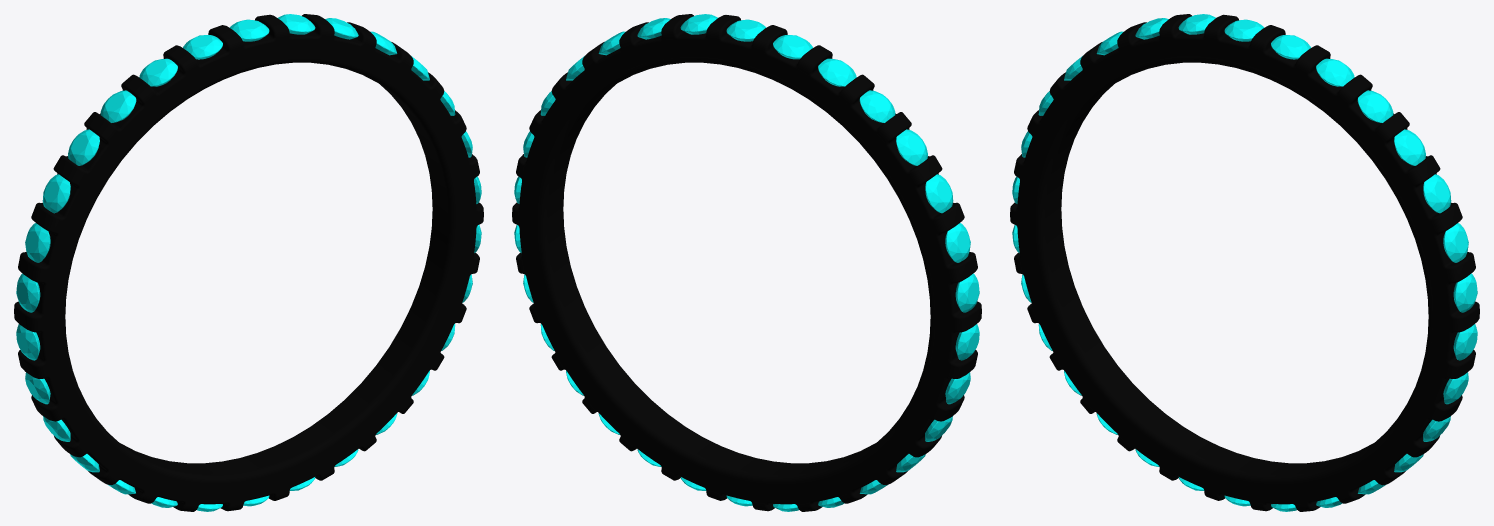
The model's file is et_diamond_1.glb.
3 renders of one model, left to right at view 1: azimuth 30°, elevation 25°; view 2: azimuth 150°, elevation 25°; view 3: azimuth 330°, elevation 25°, orthographic.
Visible parts, largest first — view 1: ET-Diamond-1.3dm; view 2: ET-Diamond-1.3dm; view 3: ET-Diamond-1.3dm.
Part boxes in pixels (left/top/right/bottom): ET-Diamond-1.3dm: left=14, top=14, right=483, bottom=511; ET-Diamond-1.3dm: left=512, top=14, right=981, bottom=511; ET-Diamond-1.3dm: left=1010, top=14, right=1479, bottom=511.
Size of the model in its own units: 2.83 by 2.82 by 0.2348.
